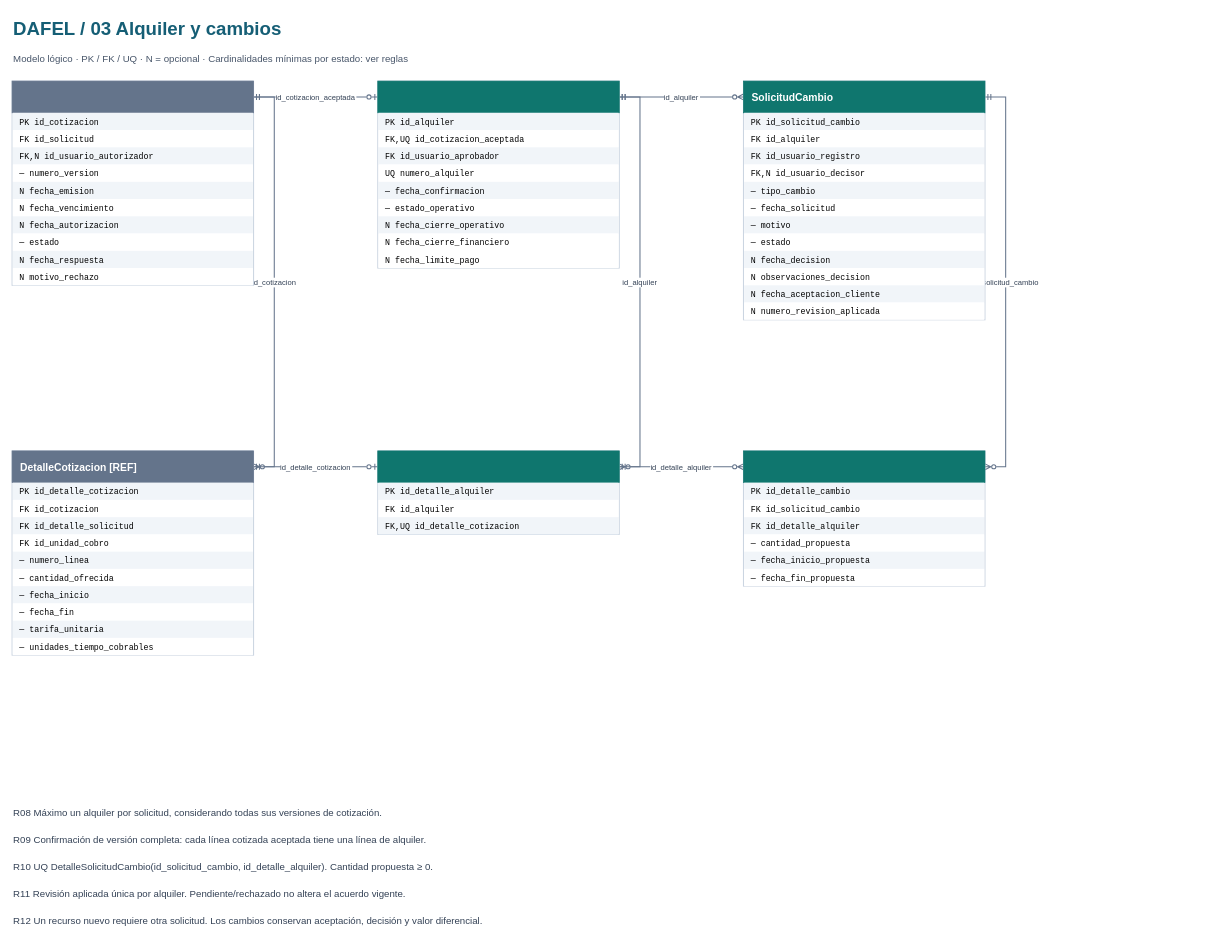
This 1223x945 diagram has some shape labels left out. Each missing label, with the centre of its shape:
Alquiler: the point at 498,96
Cotizacion [REF]: the point at 132,96
DetalleAlquiler: the point at 498,466
DetalleSolicitudCambio: the point at 864,466
